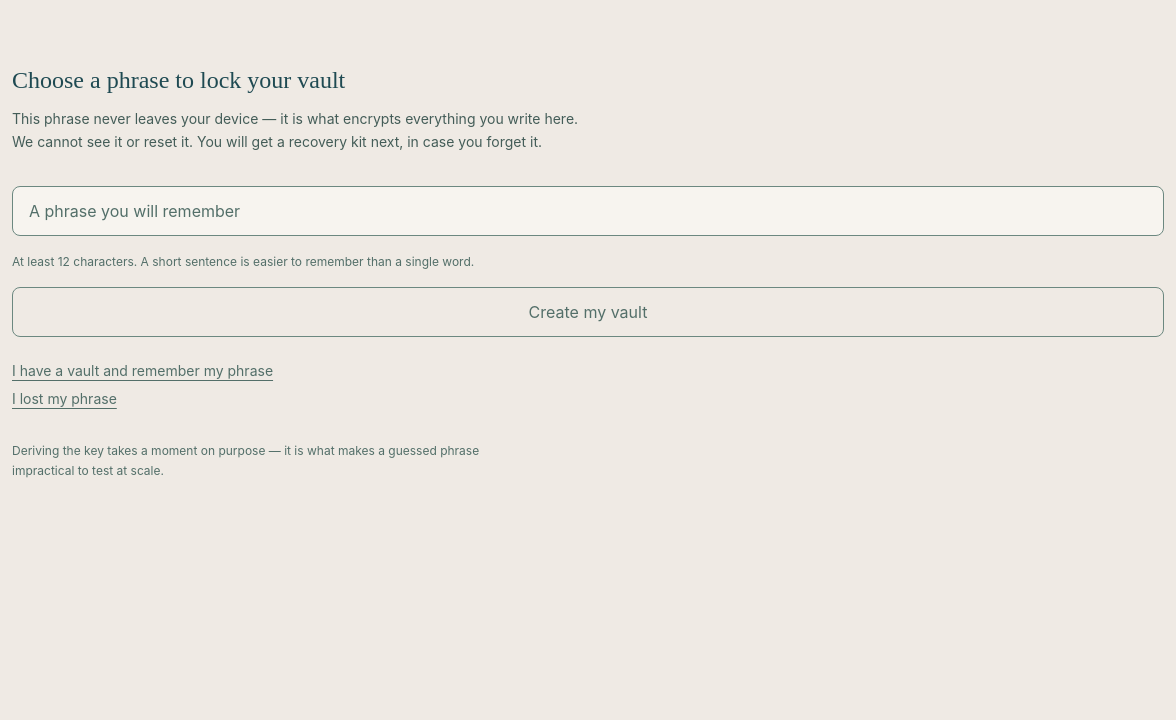
when unlocking fails › says so without hinting at what was wrong
The image size is (1176, 720).
Click the button "I lost my phrase" at (64, 399), box [12,389,117,409]
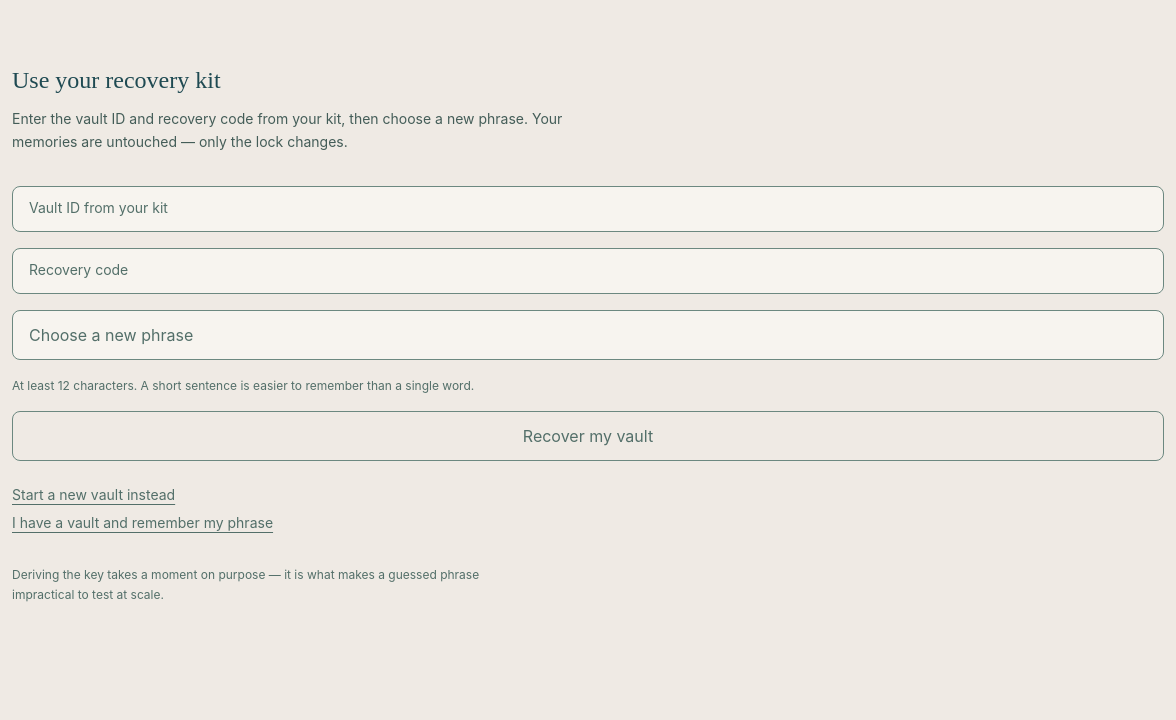
Type "11111111-2222-3333-4444-555555555555" into the field with placeholder "Vault ID from your kit" at (588, 208), box [12,186,1164,232]
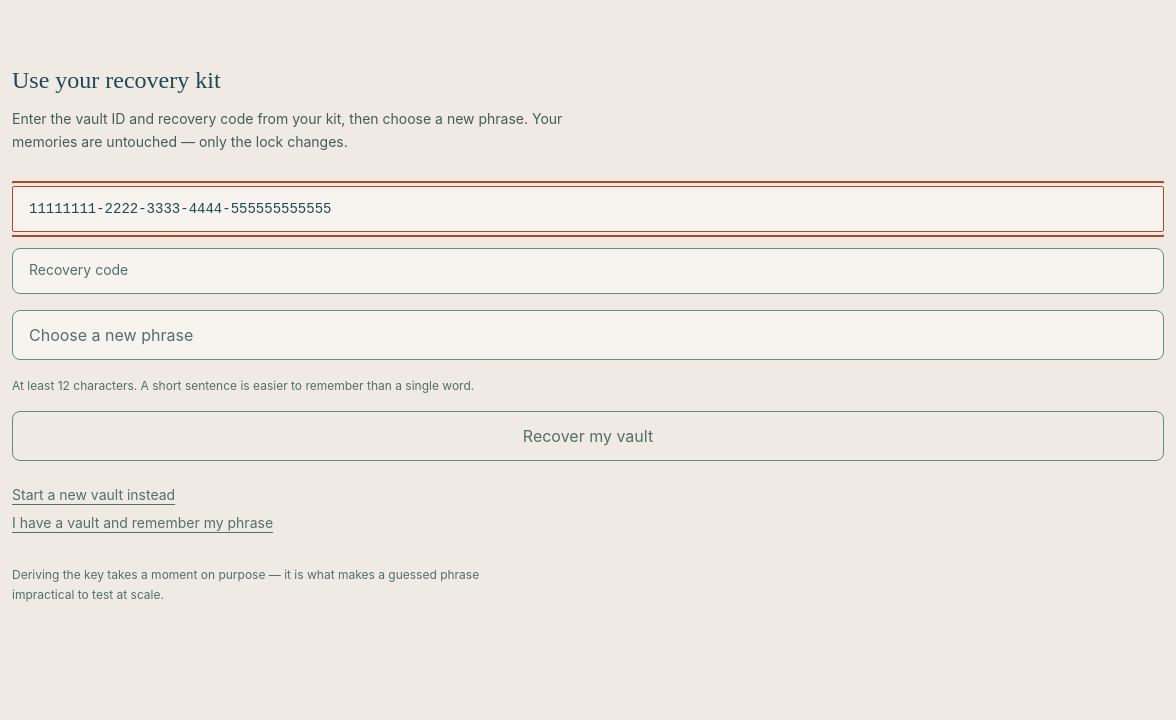
Type "ABCD-EFGH" into the field with placeholder "Recovery code" at (588, 270), box [12,248,1164,294]
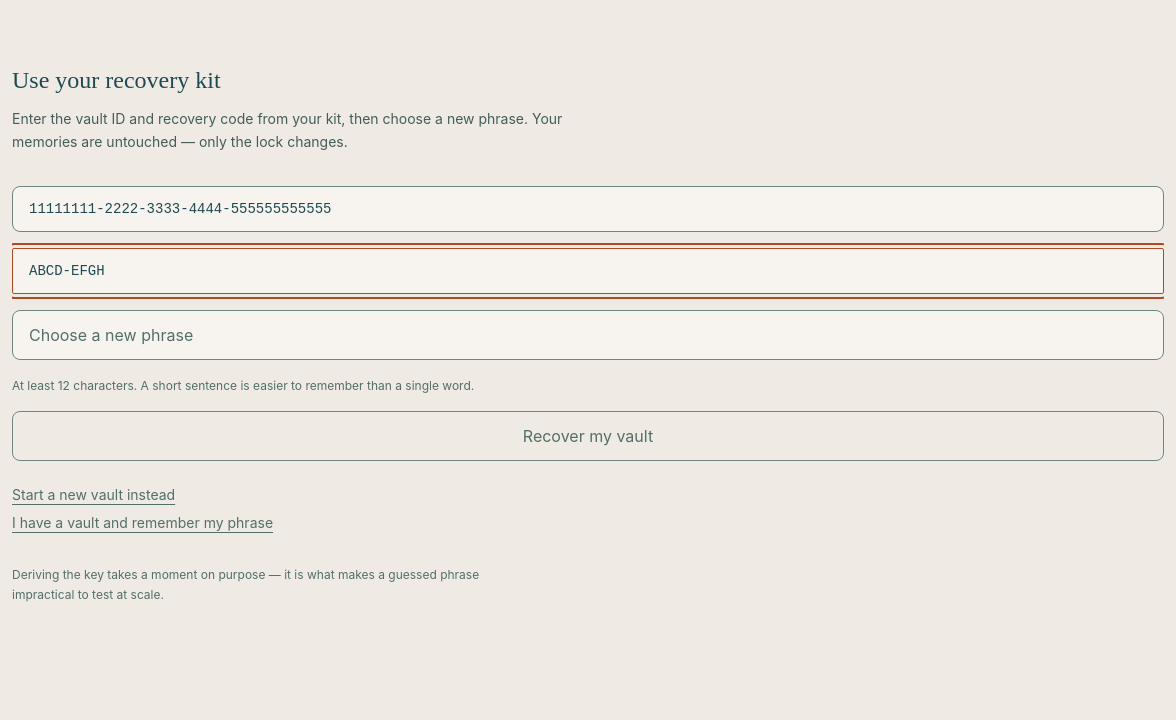
Type "a long enough phrase" into the password field with placeholder "Choose a new phrase" at (588, 334), box [12,310,1164,360]
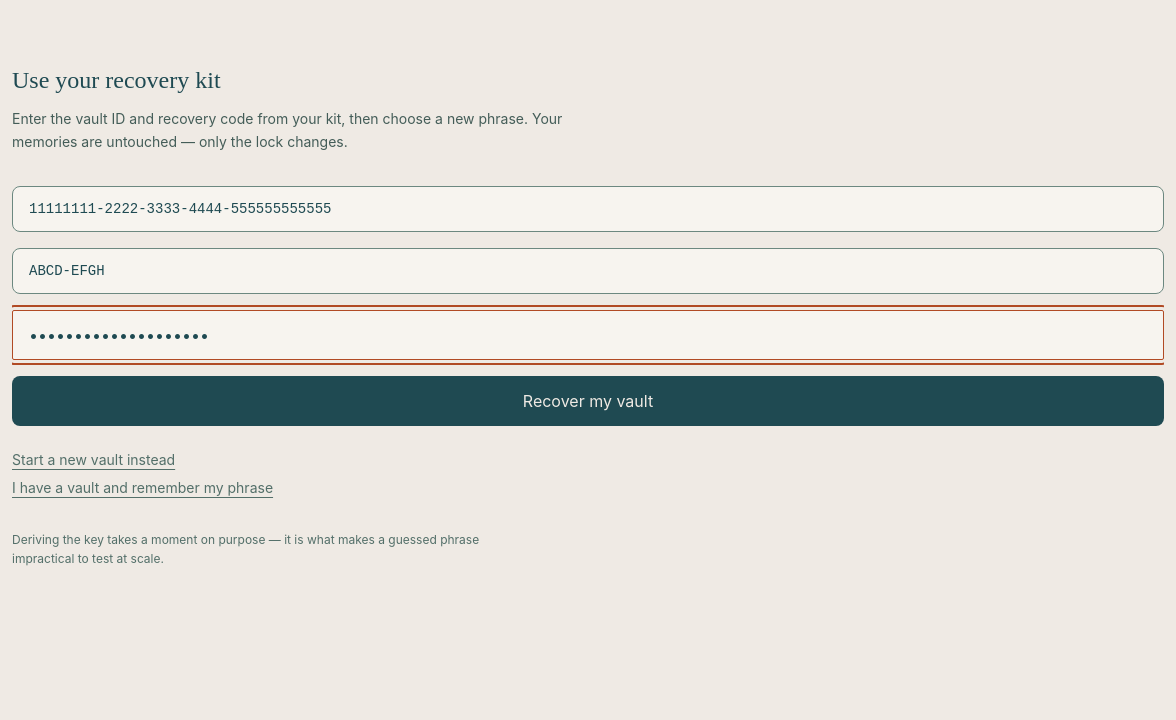
Click the button "Recover my vault" at (588, 400), box [12,376,1164,426]
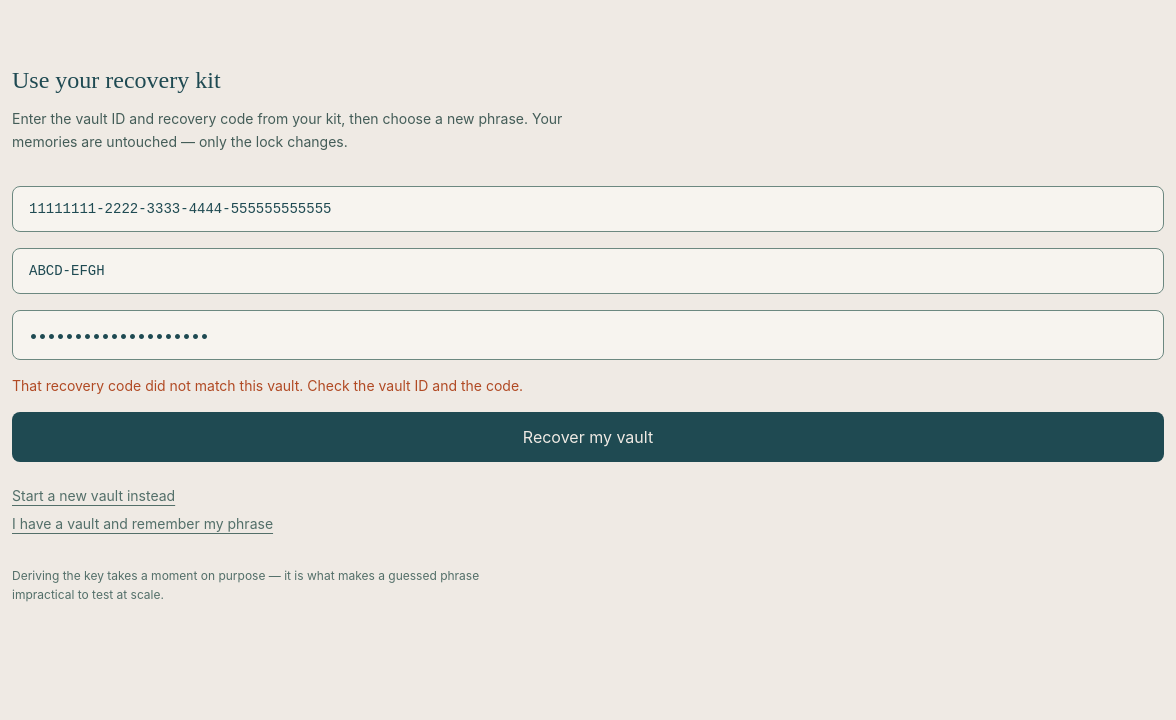
Expected: the text "That recovery code did not match this vault. Check the vault ID and the code." is shown, [12,376,523,394]
